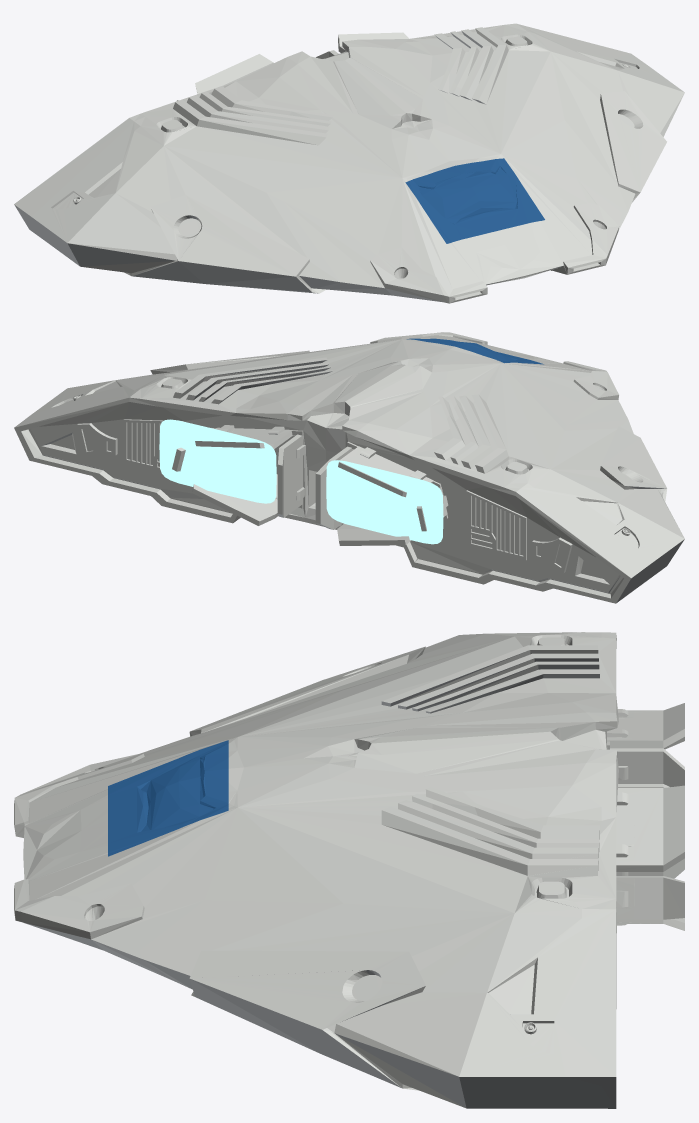
Rendered from cobra-mk3.glb.
3 views of the same model, one above another, from view 1: azimuth 30°, elevation 25°; view 2: azimuth 150°, elevation 25°; view 3: azimuth 270°, elevation 25° (orthographic). The views are drawn at different scales.
Visible parts, largest first — view 1: cobra-mk3; view 2: cobra-mk3; view 3: cobra-mk3.
Part boxes in pixels (x1,y1,x2,y2): cobra-mk3: [14, 23, 684, 303]; cobra-mk3: [14, 332, 684, 603]; cobra-mk3: [14, 632, 684, 1108].
Bounding box in the file's own units: 42.22 × 8.31 × 27.1.
